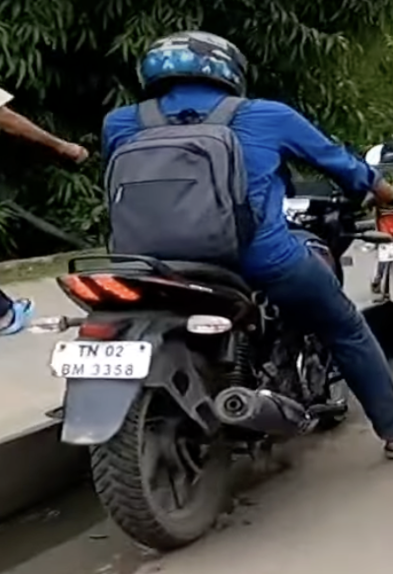motor: (53, 137, 389, 548)
number: (52, 338, 151, 380)
with helmet: (142, 32, 246, 94)
